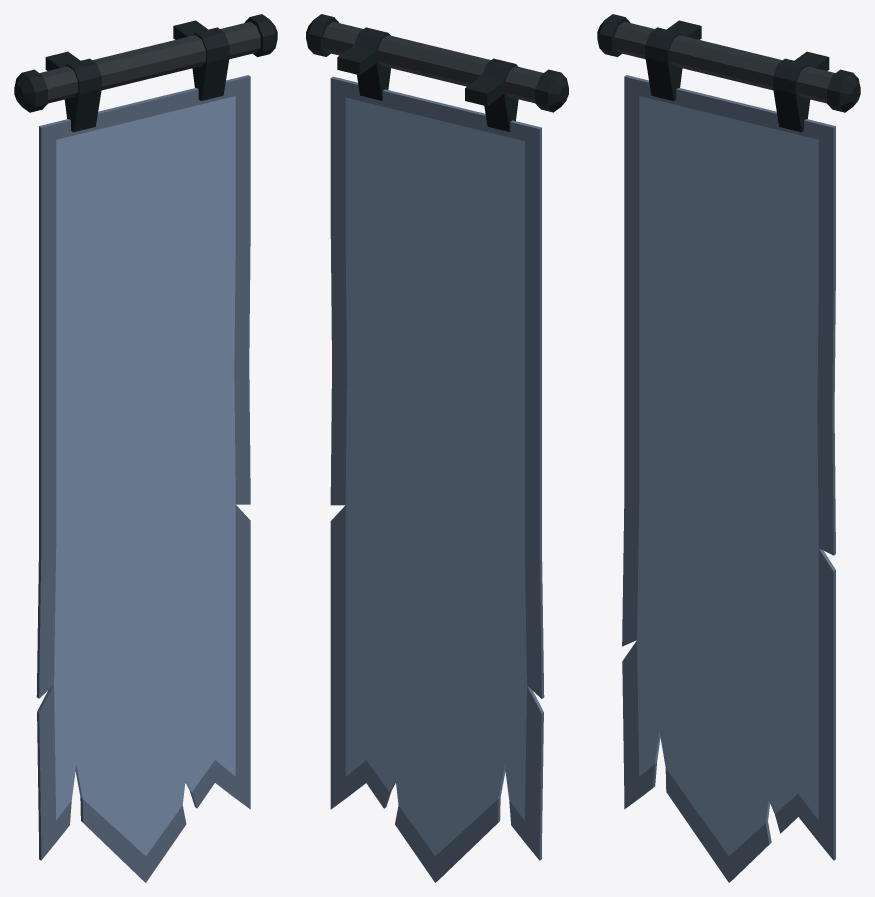
Rendered from Flag_02.fbx.
The picture shows the model from 3 angles, left to right: view 1: azimuth 30°, elevation 25°; view 2: azimuth 150°, elevation 25°; view 3: azimuth 330°, elevation 25°; orthographic projection.
Visible parts, largest first — view 1: Flag_02; view 2: Flag_02; view 3: Flag_02.
Boxes of the visible parts, bbox=[...] form: Flag_02: bbox=[14, 14, 277, 882]; Flag_02: bbox=[306, 14, 568, 882]; Flag_02: bbox=[597, 14, 860, 882].
Bounding box in the file's own units: 64.32 × 202 × 15.19.
